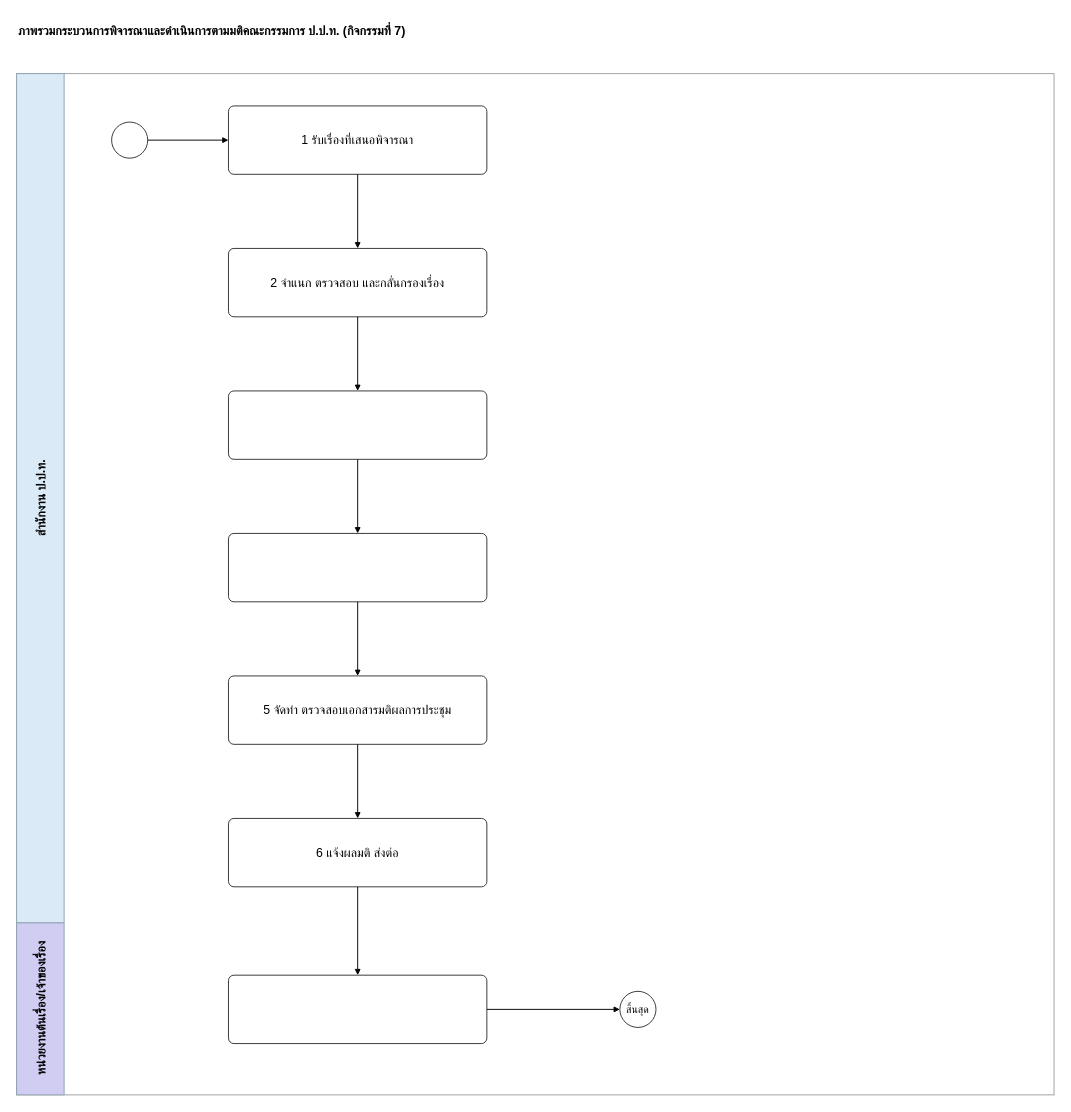
Image size: 1071x1112. Some labels were removed from this diagram. Each missing label, with the box of its shape:
3 จัดทำและบริหารวาระการประชุม: (228, 390, 487, 459)
4 พิจารณาเรื่องและบันทึกมติที่ประชุม: (228, 532, 487, 602)
7. รับทราบผลมติ: (228, 974, 487, 1044)
เริ่ม: (111, 121, 148, 158)
